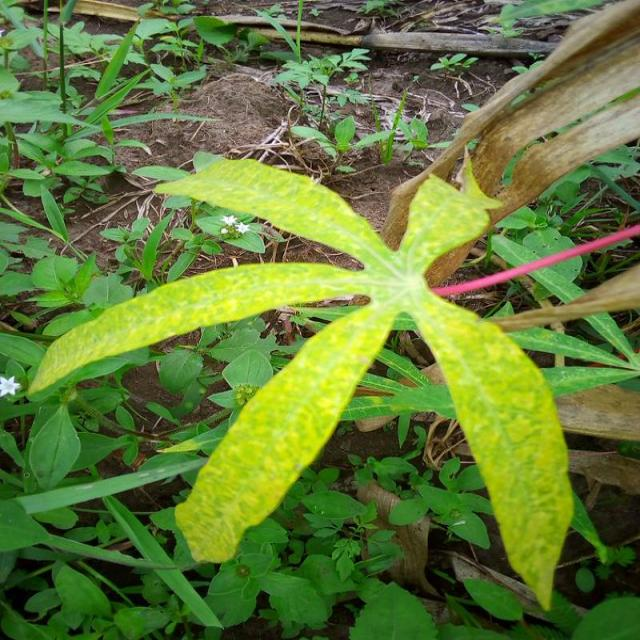cassava leaf: (26, 151, 578, 610)
